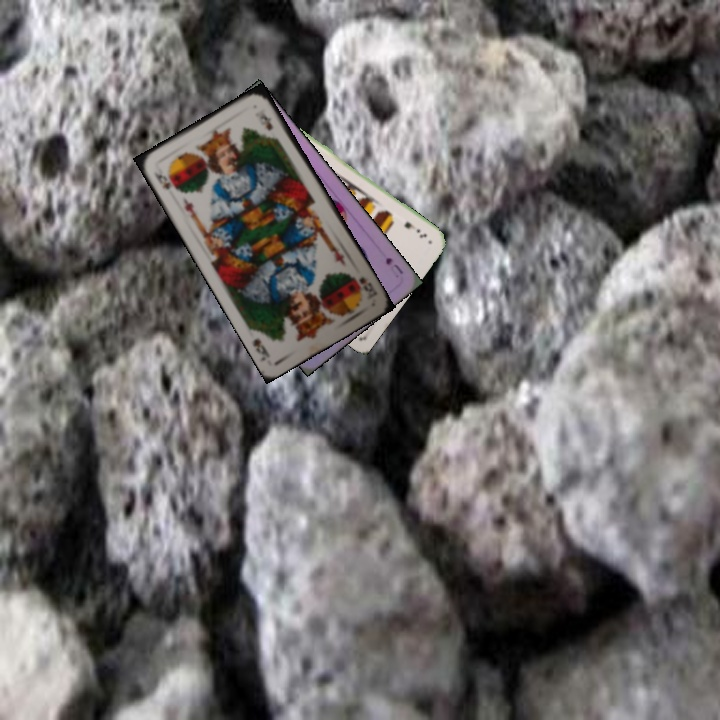E7: (400, 217, 430, 241)
SK: (151, 168, 180, 195), (355, 272, 377, 302)
SU: (381, 253, 406, 277)
